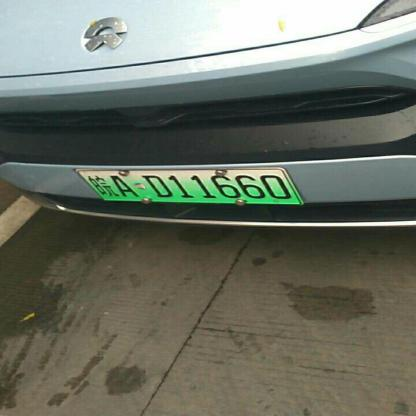lp: (78, 170, 301, 202)
